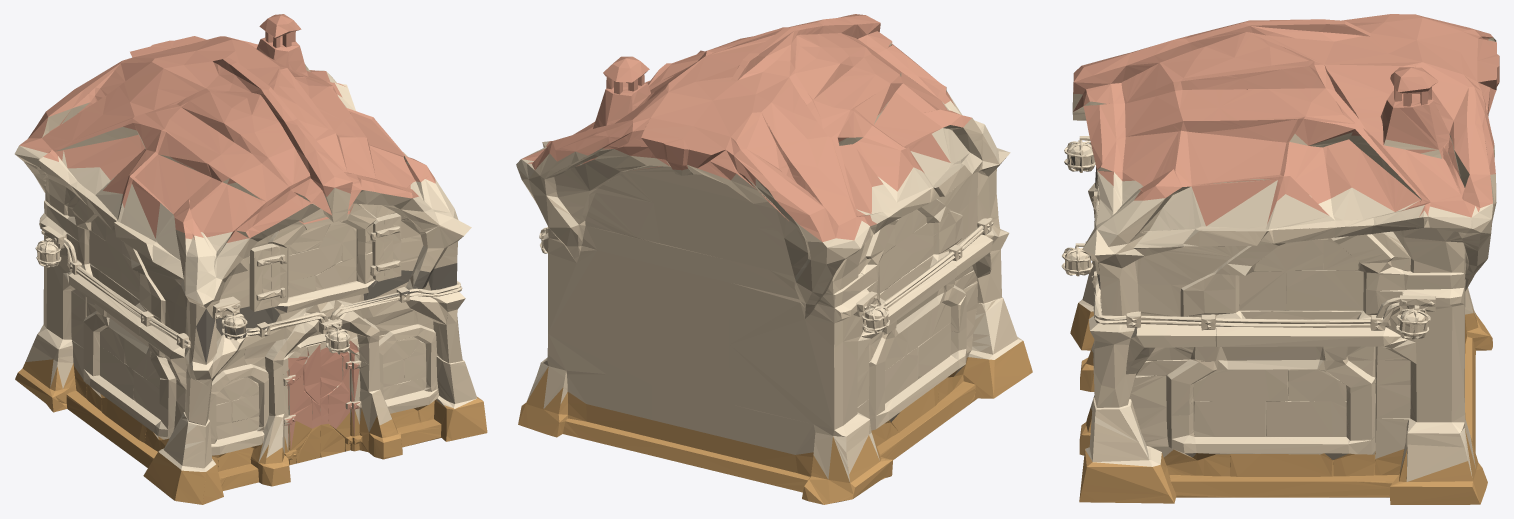
The model's file is maison_ville_haute.glb.
3 renders of one model, left to right at view 1: azimuth 30°, elevation 25°; view 2: azimuth 150°, elevation 25°; view 3: azimuth 270°, elevation 25°, orthographic. The views are drawn at different scales.
Parts seen in each view (by area): view 1: Maison ville haute; view 2: Maison ville haute; view 3: Maison ville haute.
Boxes of the visible parts, box(x1,y1,x2,y2) form: Maison ville haute: box(14, 14, 487, 504); Maison ville haute: box(516, 14, 1032, 504); Maison ville haute: box(1061, 14, 1499, 504).
Bounding box in the file's own units: 1 × 1 × 1.
